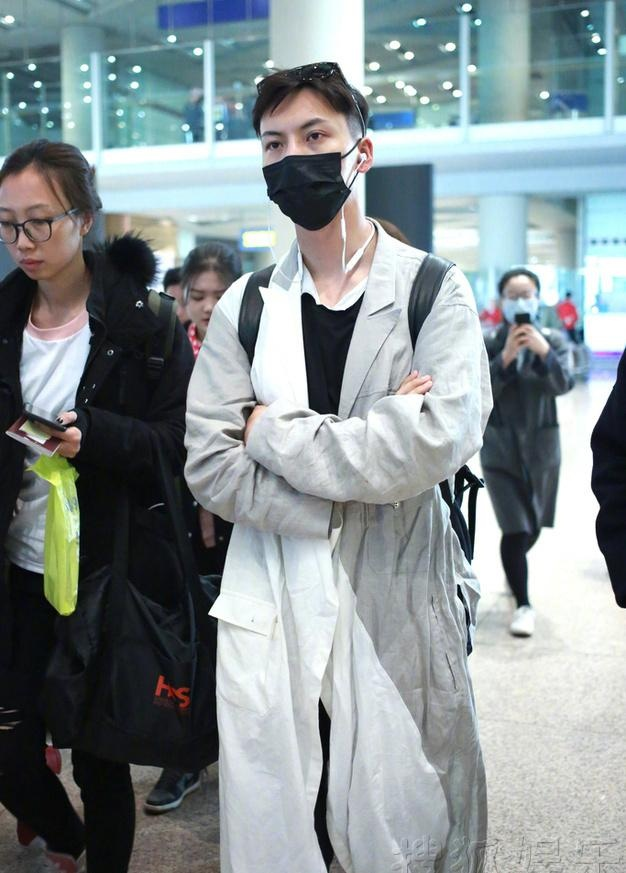Mask: (257, 116, 365, 224)
